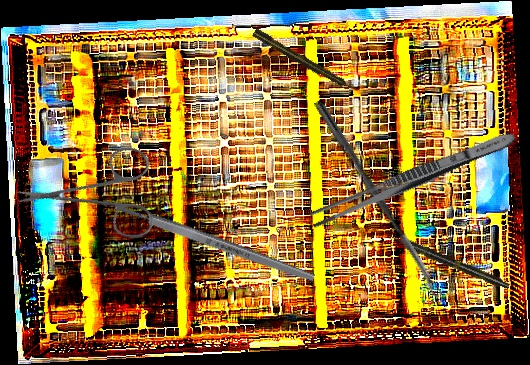Dressing Forceps: (307, 125, 519, 233)
Handpiece: (387, 231, 512, 292), (251, 27, 358, 95)
Iris Scissors: (12, 107, 186, 282)
Scalpel Handle: (113, 200, 316, 285)
Surgical Spoon: (312, 99, 443, 299)
